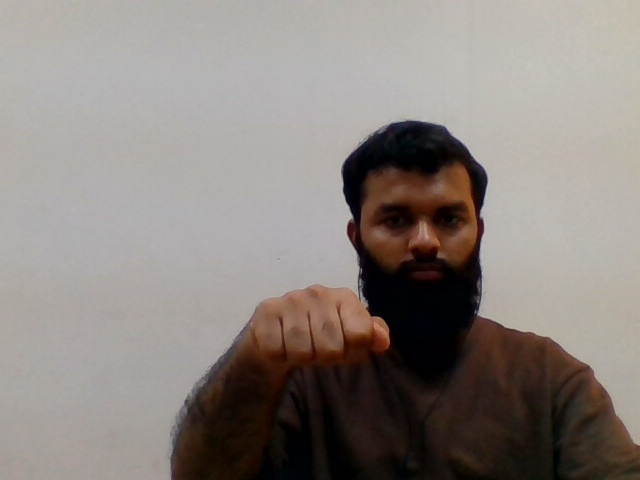Yes: (224, 269, 415, 389)
